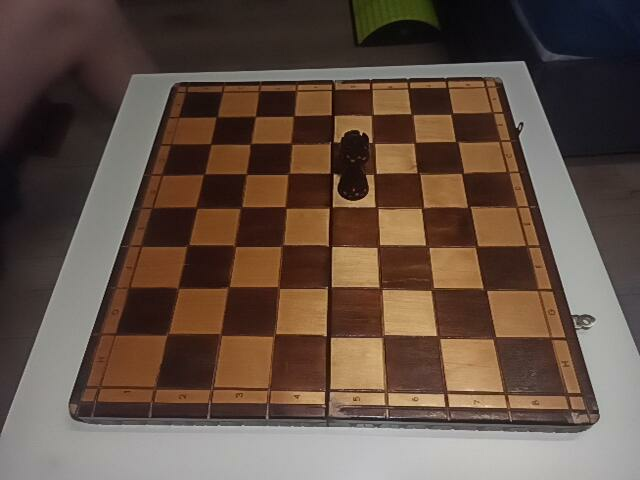B-Rook: (336, 130, 372, 202)
